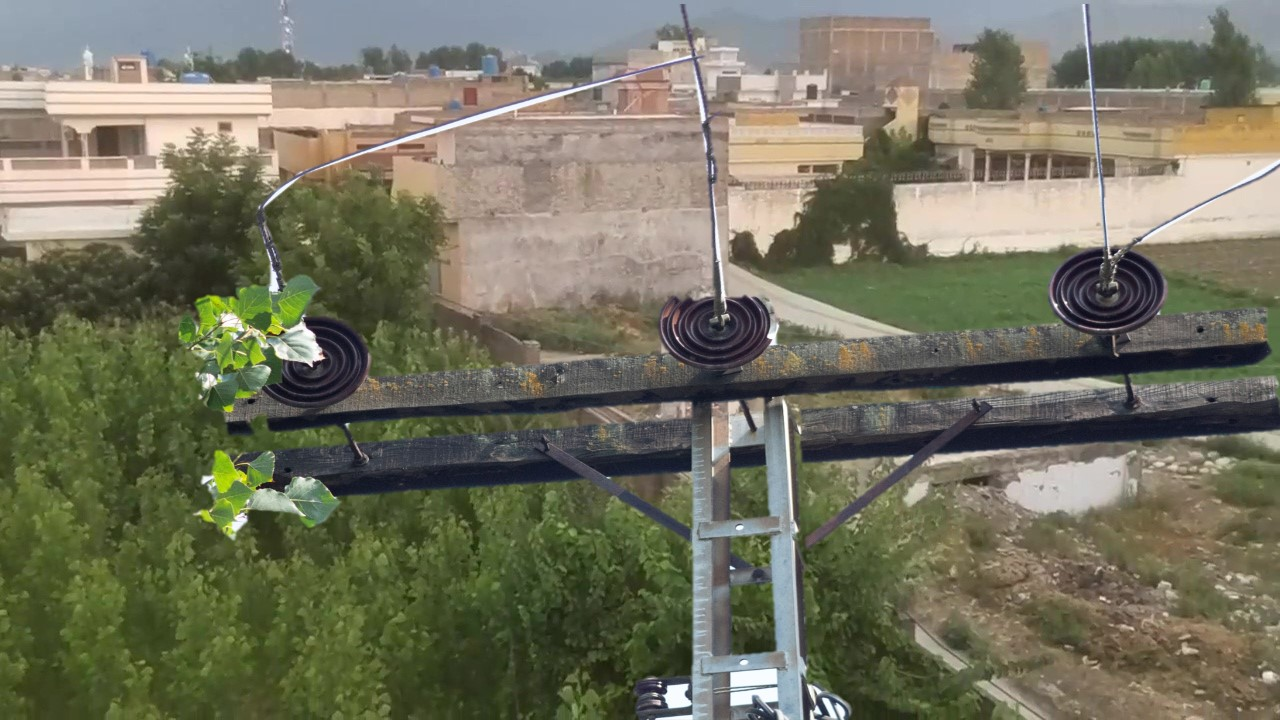defect_disc: (656, 286, 786, 374)
insulator_disc: (1049, 242, 1170, 338), (266, 312, 375, 408)
